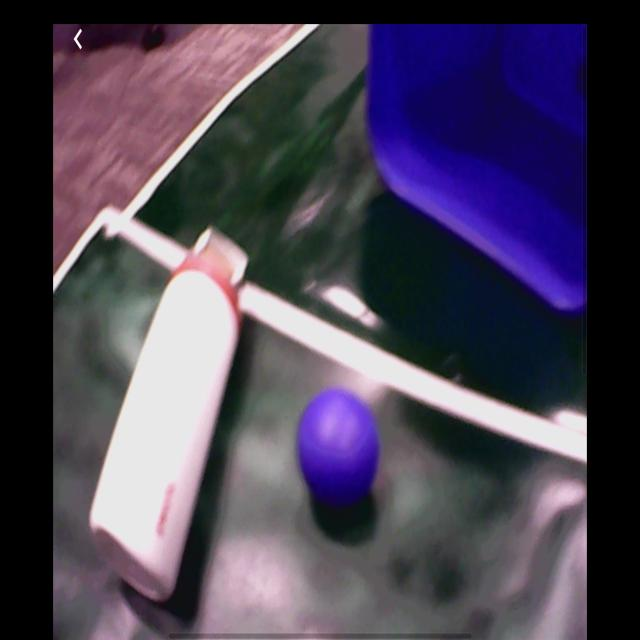ball: (300, 389, 379, 502)
